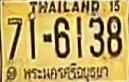1: (76, 16, 83, 59)
3: (88, 16, 104, 56)
6: (53, 16, 69, 57)
7: (7, 17, 22, 59)
8: (106, 15, 121, 56)
AYA: (22, 62, 110, 82), (29, 18, 36, 59)
